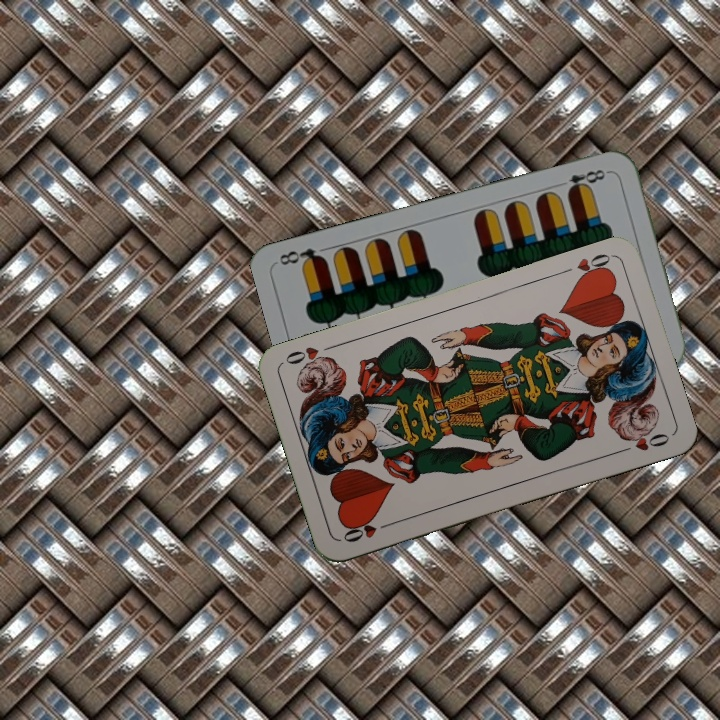E8: (563, 165, 612, 196)
HO: (339, 516, 396, 545), (572, 249, 615, 284)
